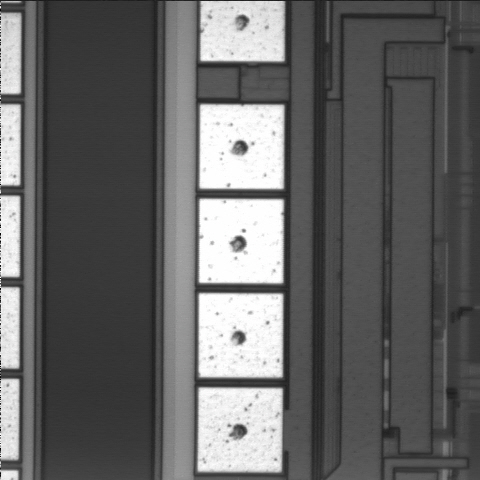pad: (199, 104, 284, 189), (199, 199, 284, 283), (199, 293, 283, 378), (198, 388, 282, 472)
